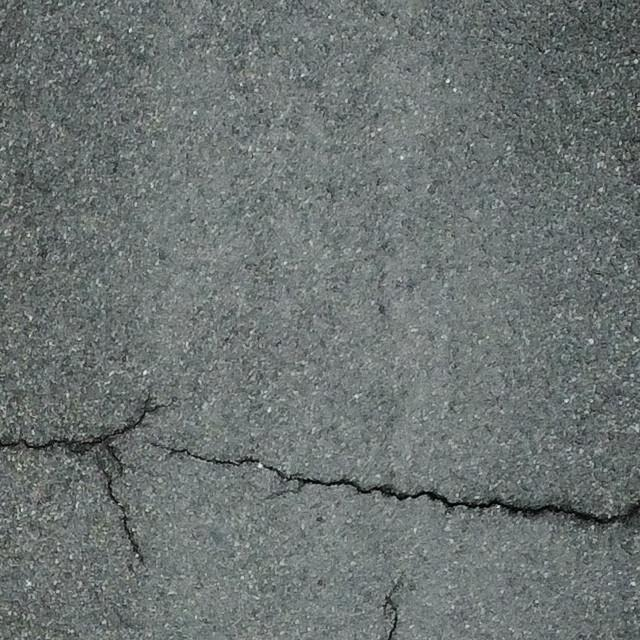TransverseCrack: (8, 398, 640, 568)
